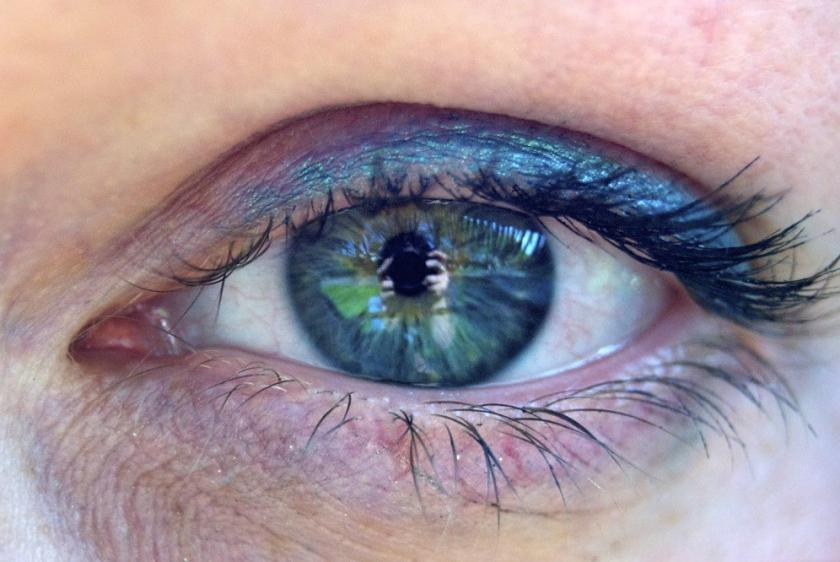iris: (283, 163, 556, 393)
pupil: (382, 234, 436, 296)
